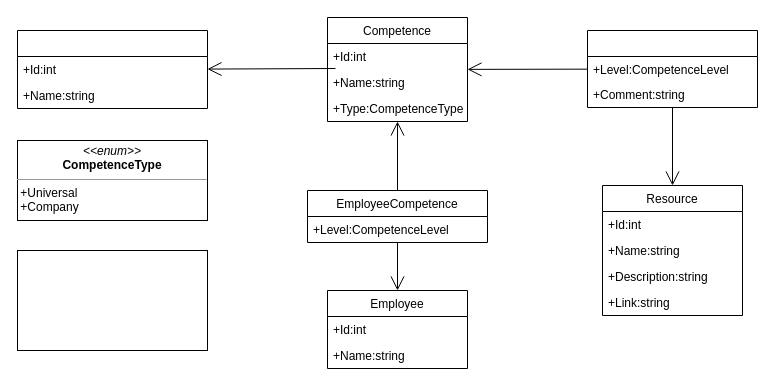
This 775x389 diagram has some shape labels left out. The box of each missing label's shape, as (x1, y1, x2, y2) in pixels:
<<enum>> CompetenceLevel +Basic +Intermediate +Advanced: (16, 250, 208, 350)
CompetenceCategory: (16, 30, 208, 108)
CompetenceResource: (586, 30, 758, 108)
